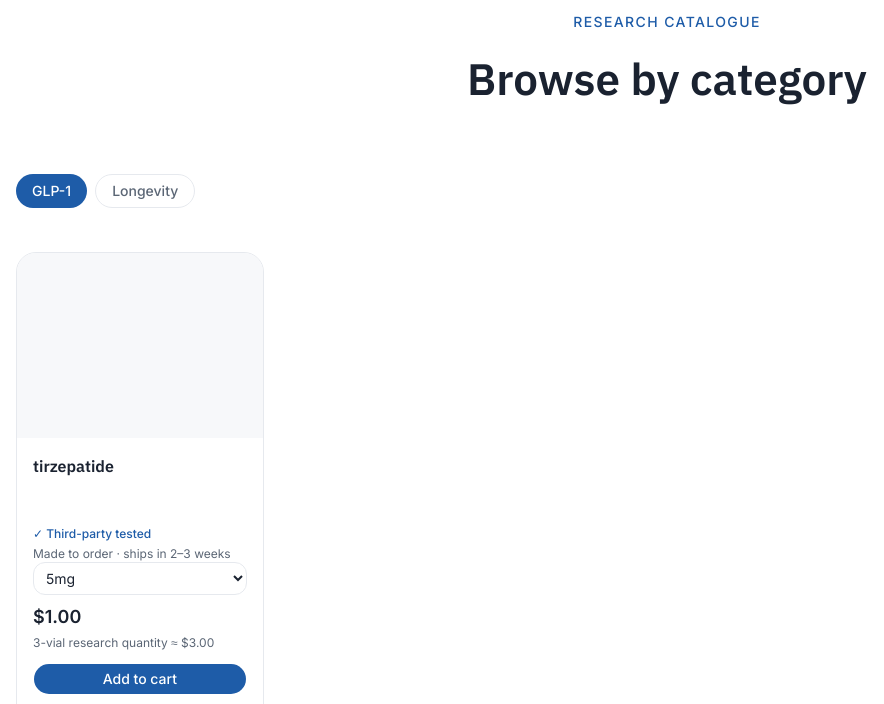
tabs switch the visible category grid
Expected: the tab "GLP-1" is shown, [16,174,87,208]
Click the tab "Longevity" at (145, 191), box [95,174,195,208]
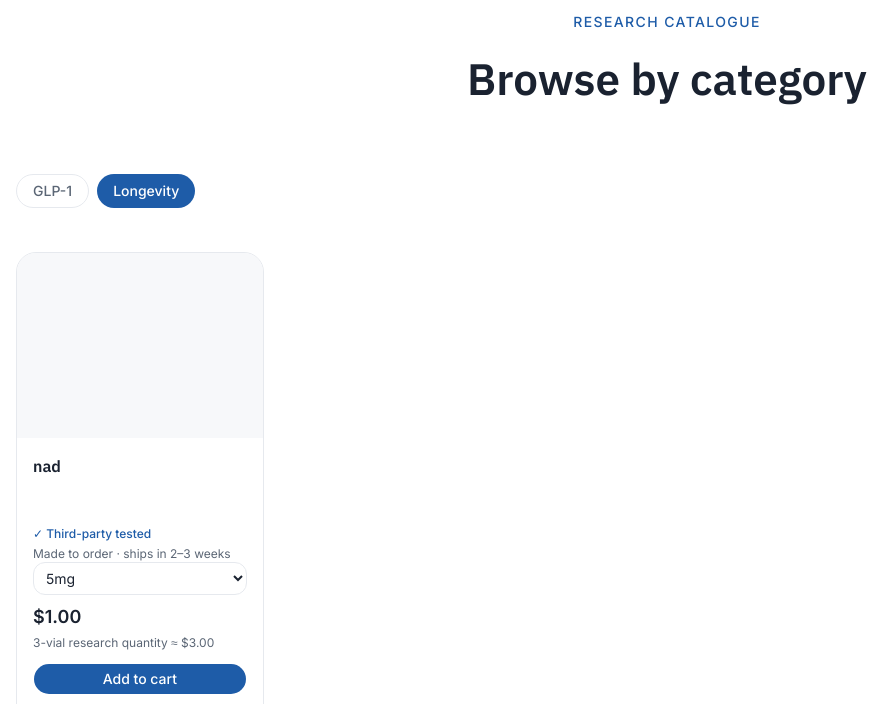
Result: the text "nad" is shown at [33,456,61,476]
